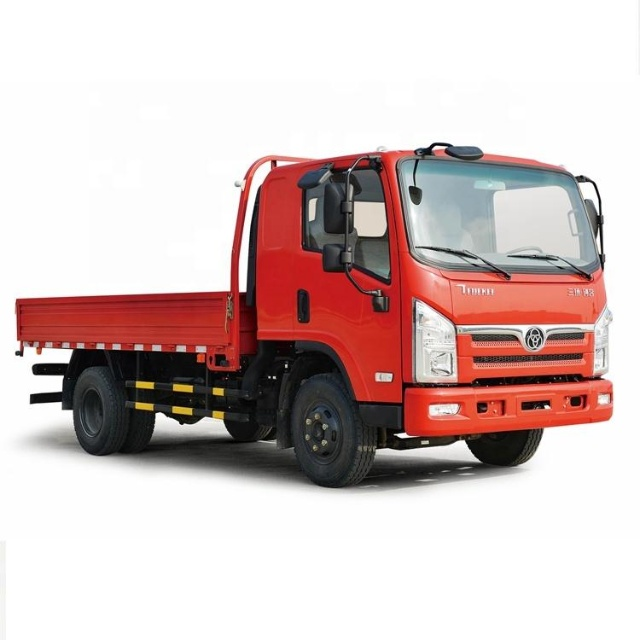Truck: (15, 142, 614, 488)
